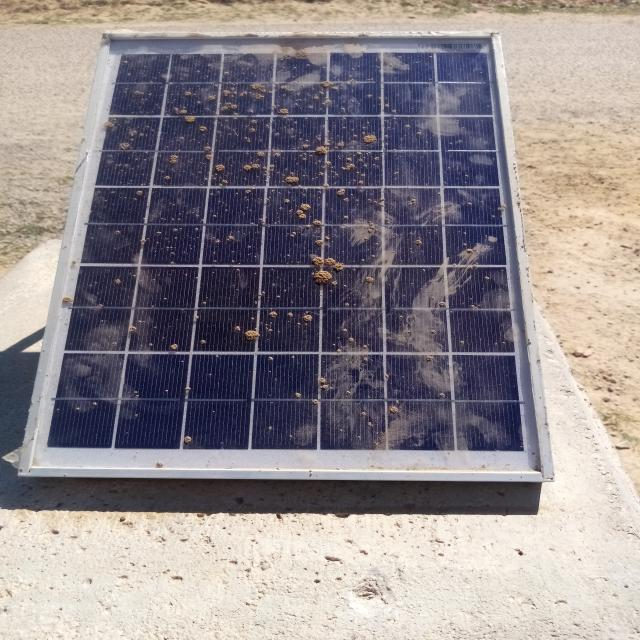faulty: (29, 32, 554, 474)
